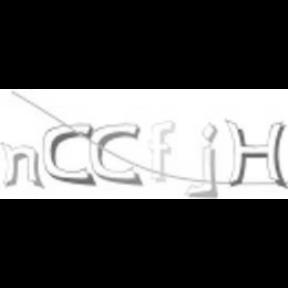C: (41, 122, 95, 188), (91, 122, 143, 188)
H: (222, 116, 288, 190)
f: (148, 119, 176, 186)
j: (184, 120, 219, 200)
n: (1, 140, 44, 188)
